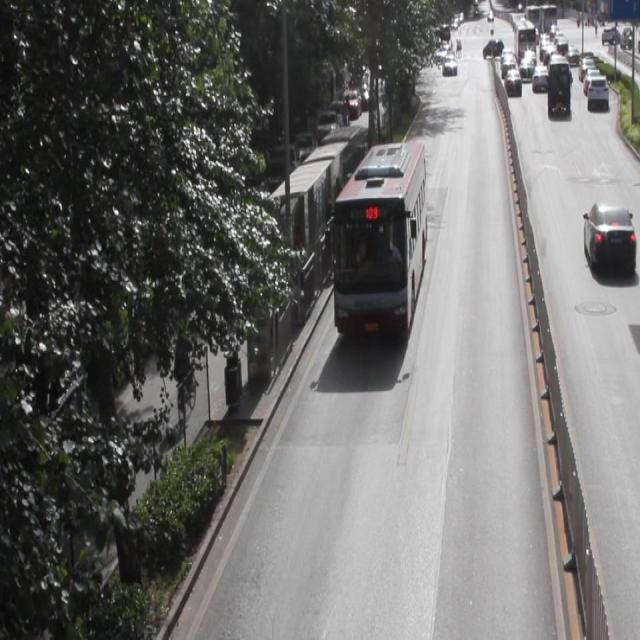car: (581, 200, 640, 273)
van: (333, 141, 424, 333)
